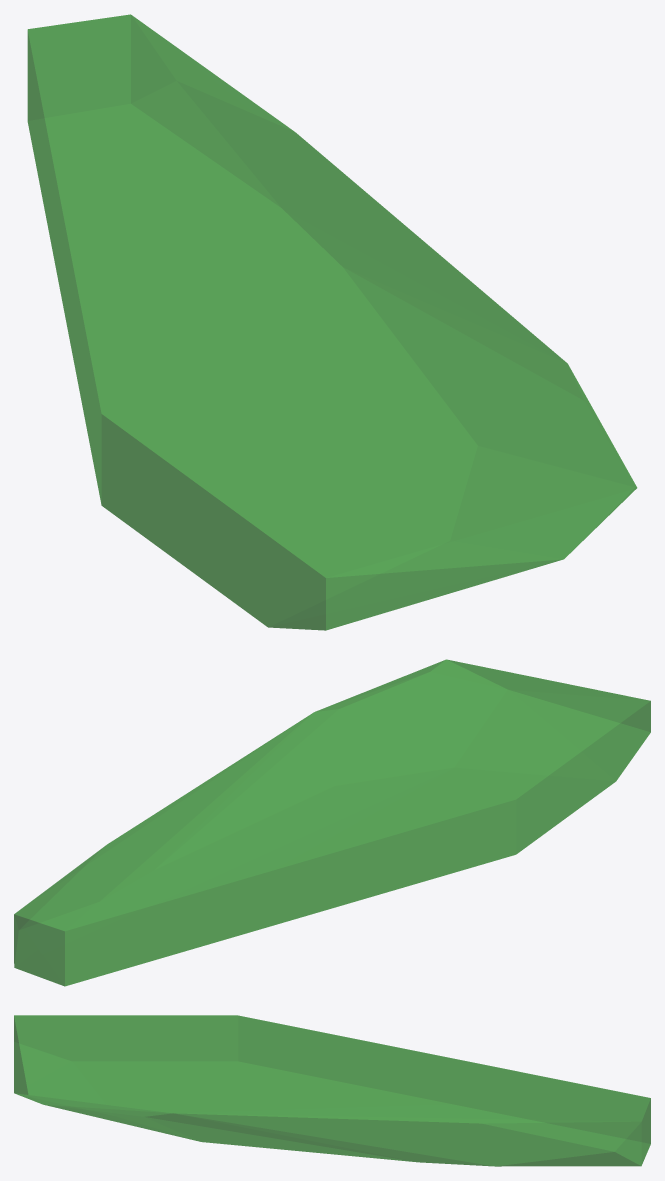
3 renders of one model, top to bottom at view 1: azimuth 30°, elevation 25°; view 2: azimuth 150°, elevation 25°; view 3: azimuth 270°, elevation 25°, orthographic. The views are drawn at different scales.
Parts seen in each view (by area): view 1: Shape_IndexedFaceSet.015_Shape_IndexedFaceSet.15997; view 2: Shape_IndexedFaceSet.015_Shape_IndexedFaceSet.15997; view 3: Shape_IndexedFaceSet.015_Shape_IndexedFaceSet.15997.
Boxes of the visible parts, x1,y1,x2,y2 form: Shape_IndexedFaceSet.015_Shape_IndexedFaceSet.15997: [27, 14, 637, 630]; Shape_IndexedFaceSet.015_Shape_IndexedFaceSet.15997: [14, 659, 650, 986]; Shape_IndexedFaceSet.015_Shape_IndexedFaceSet.15997: [14, 1015, 650, 1166].
Bounding box in the file's own units: 0.1244 × 0.0242 × 0.3041.
